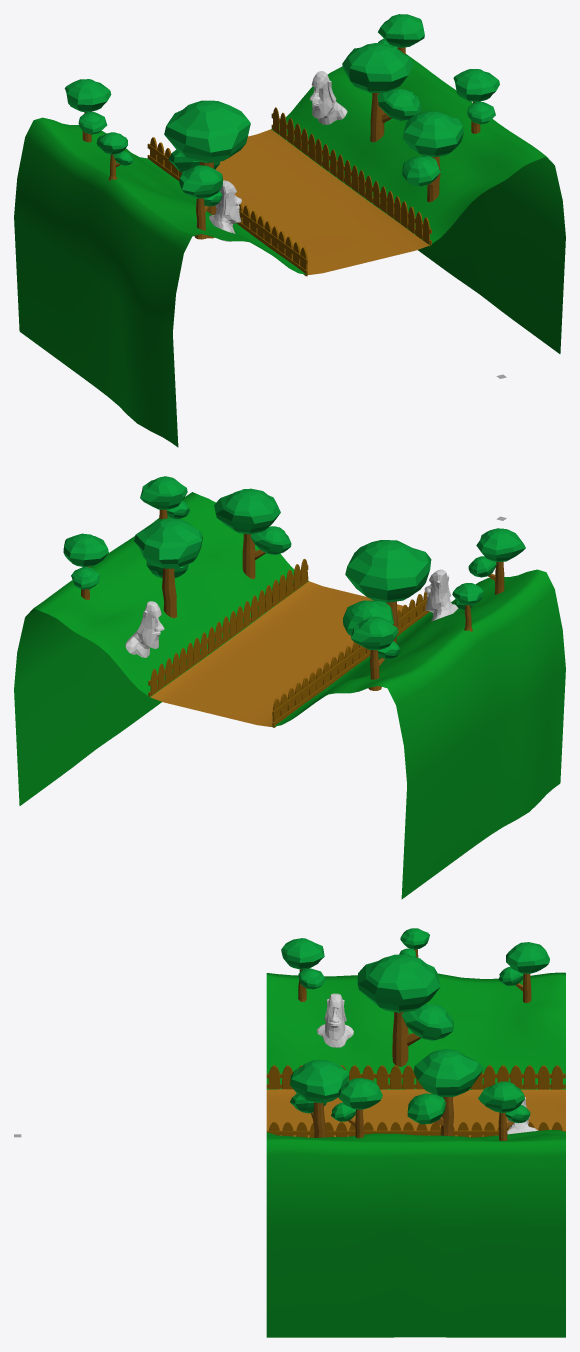
File: floor.fbx
3 views of the same model, one above another, from view 1: azimuth 30°, elevation 25°; view 2: azimuth 150°, elevation 25°; view 3: azimuth 270°, elevation 25° (orthographic). The views are drawn at different scales.
Visible parts, largest first — view 1: floor1; view 2: floor1; view 3: floor1.
Boxes of the visible parts, box(x1,y1,x2,y2) form: floor1: box(14, 14, 565, 447); floor1: box(14, 476, 565, 899); floor1: box(14, 928, 565, 1337).
Bounding box in the file's own units: 58.01 × 37.14 × 73.8.
